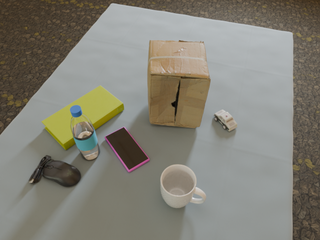book: (41, 86, 124, 150)
bottle: (70, 105, 100, 160)
box: (147, 40, 210, 128)
cup: (161, 165, 206, 208)
mouse: (29, 155, 81, 187)
phone: (105, 127, 149, 172)
toy_car: (214, 110, 237, 131)
